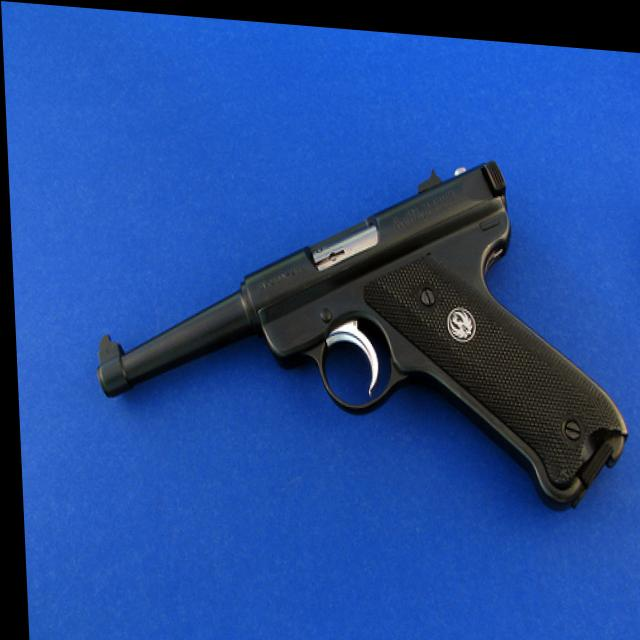handgun: (85, 118, 629, 509)
